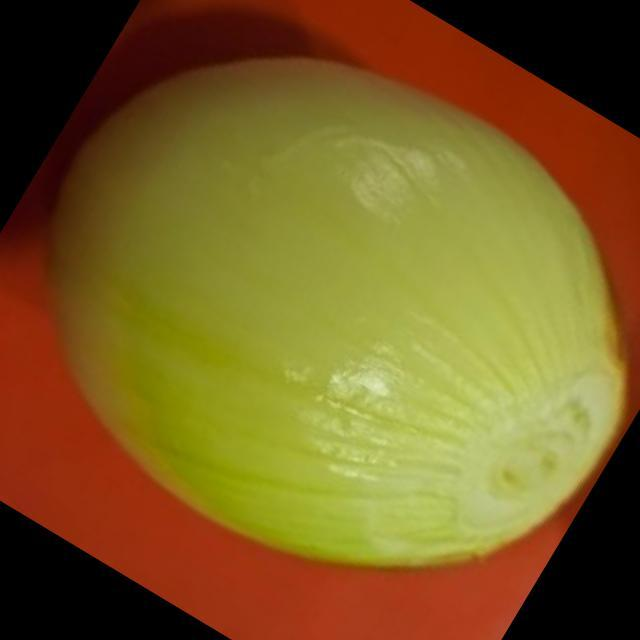Onion: (50, 54, 626, 560)
